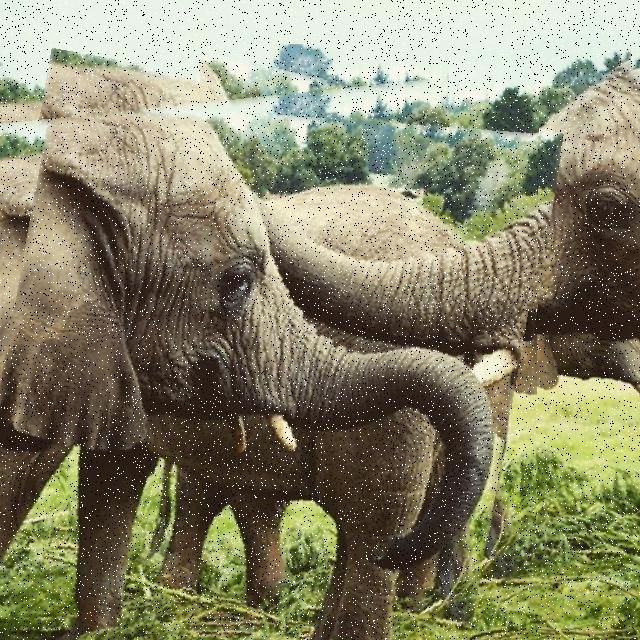elephant: (0, 68, 539, 640), (198, 44, 640, 575)
